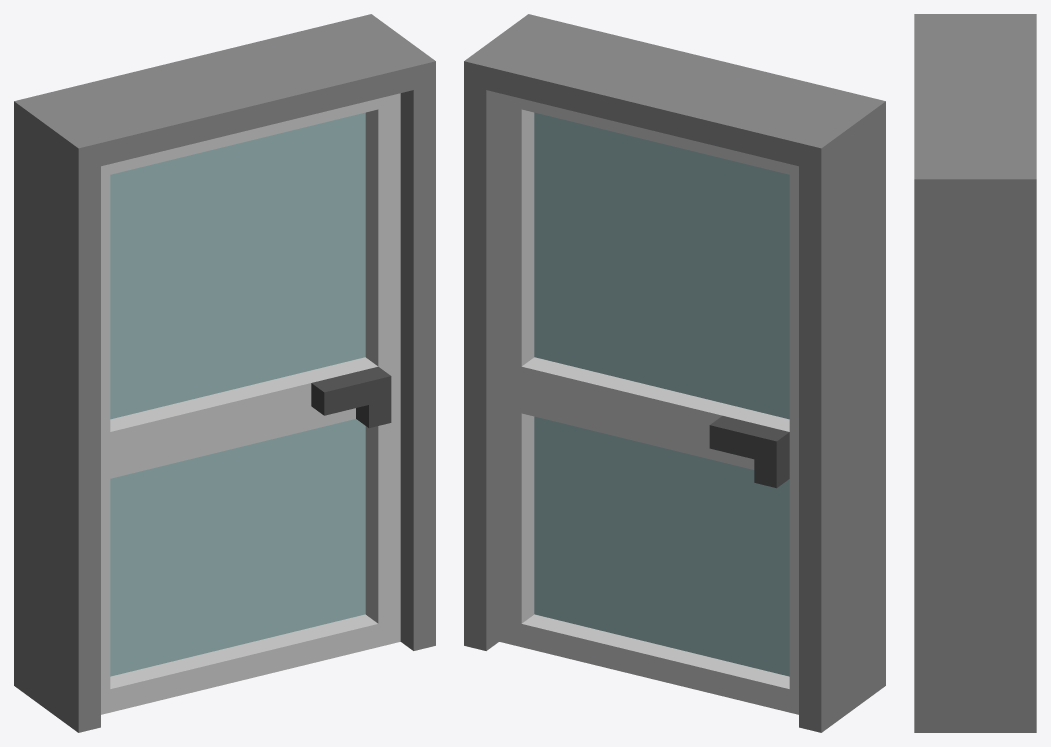
File: Door01vc.gltf
3 views of the same model, side by side, from view 1: azimuth 30°, elevation 25°; view 2: azimuth 150°, elevation 25°; view 3: azimuth 270°, elevation 25° (orthographic). The views are drawn at different scales.
Bounding box in the file's own units: 16 × 25 × 5.
